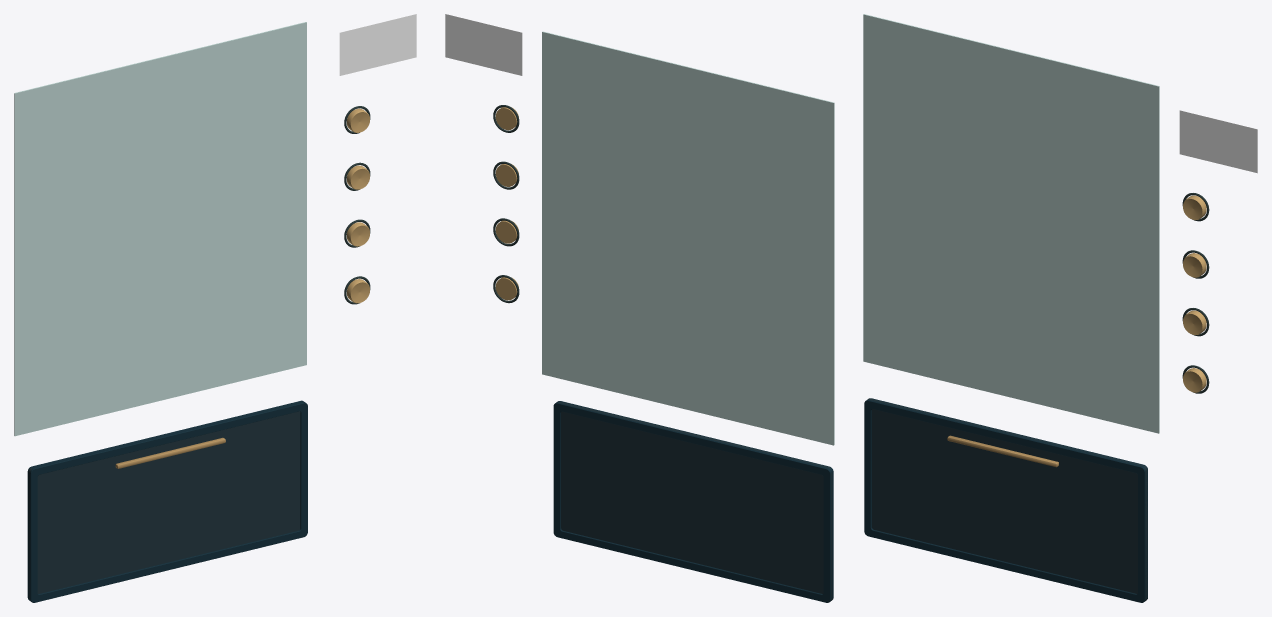
The model's file is movers.glb.
The picture shows the model from 3 angles, left to right: view 1: azimuth 30°, elevation 25°; view 2: azimuth 150°, elevation 25°; view 3: azimuth 330°, elevation 25°; orthographic projection.
Visible parts, largest first — view 1: mover_glass, mover_flap_pane, mover_flap, mover_screen, mover_flap_pull; view 2: mover_glass, mover_flap_pane, mover_flap, mover_screen; view 3: mover_glass, mover_flap_pane, mover_flap, mover_screen, mover_flap_pull.
Boxes of the visible parts, x1,y1,x2,y2 form: mover_glass: (14, 22, 306, 436); mover_flap_pane: (28, 401, 303, 601); mover_flap: (27, 400, 307, 602); mover_screen: (339, 14, 416, 75); mover_flap_pull: (115, 437, 225, 468); mover_glass: (542, 31, 834, 445); mover_flap_pane: (557, 401, 832, 599); mover_flap: (553, 401, 833, 602); mover_screen: (445, 14, 522, 75); mover_glass: (863, 14, 1159, 433); mover_flap_pane: (867, 398, 1147, 600); mover_flap: (864, 398, 1147, 602); mover_screen: (1179, 110, 1257, 173); mover_flap_pull: (947, 435, 1058, 467).
Size of the model in its own units: 4.01 by 4.91 by 0.191.
